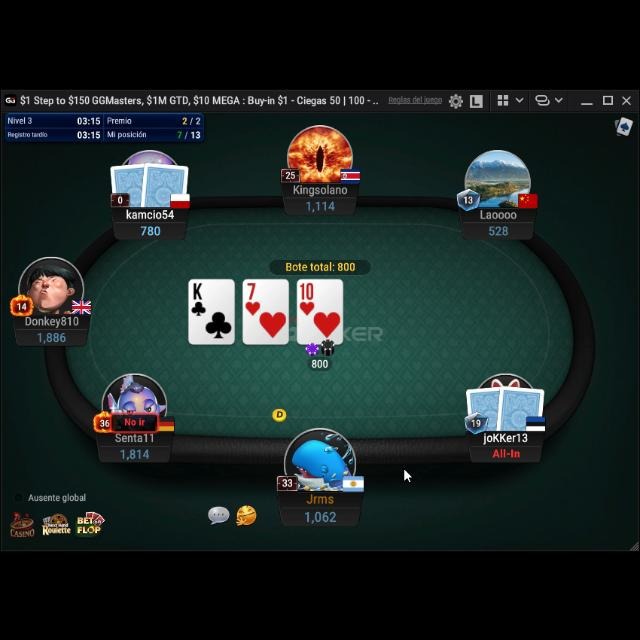7h: (243, 280, 260, 314)
Kc: (190, 278, 208, 316)
Th: (299, 278, 315, 314)
all_in_symbol: (492, 448, 522, 458)
bet_text: (310, 355, 330, 367)
card_back: (495, 379, 547, 429), (140, 156, 190, 206), (109, 158, 151, 205), (465, 380, 505, 428)
dealer: (270, 403, 288, 419)
pot_text: (284, 258, 356, 270)
stack_text: (303, 504, 337, 522), (37, 327, 67, 341), (306, 197, 336, 211), (120, 444, 150, 458), (488, 222, 510, 236), (140, 221, 162, 235)
